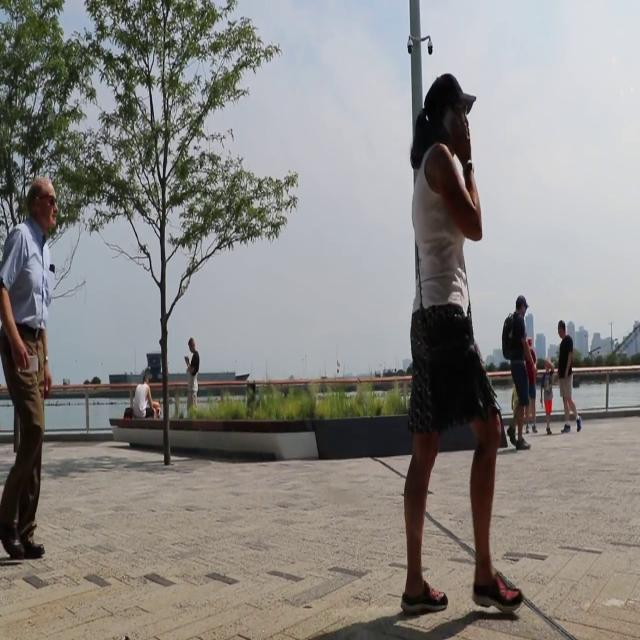normal: (393, 67, 529, 625), (1, 164, 67, 560)
